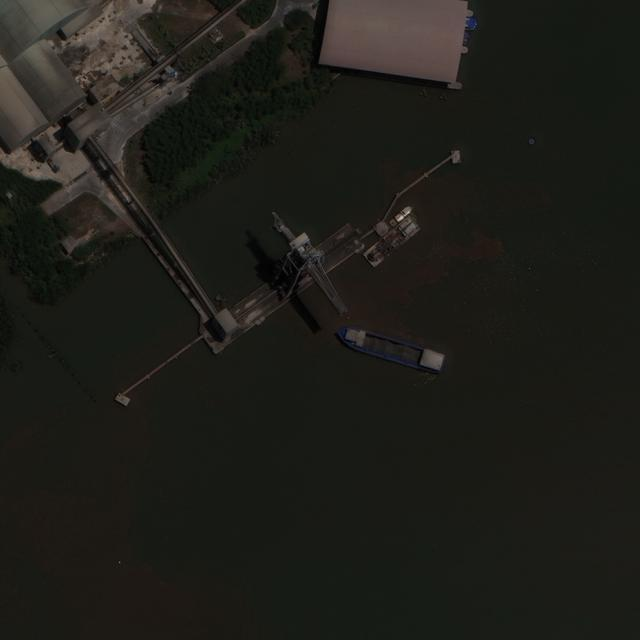Cargo: (333, 322, 447, 377)
